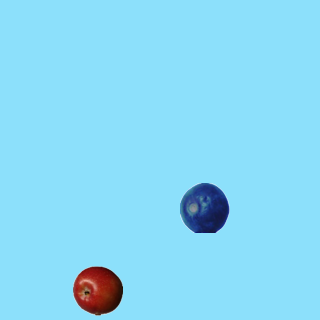Apple Braeburn: (72, 265, 122, 315)
Huckleberry: (179, 182, 229, 232)
